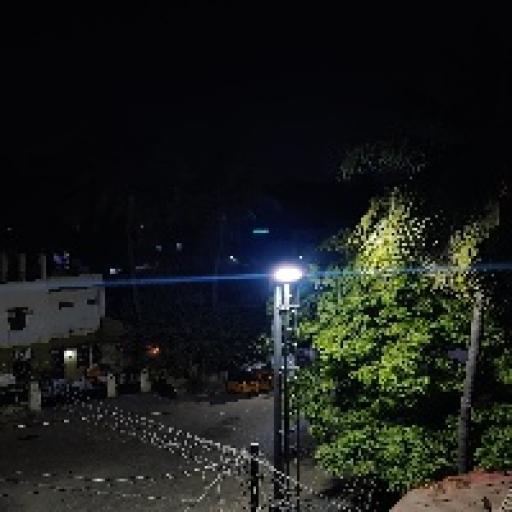Working: (267, 256, 308, 290)
